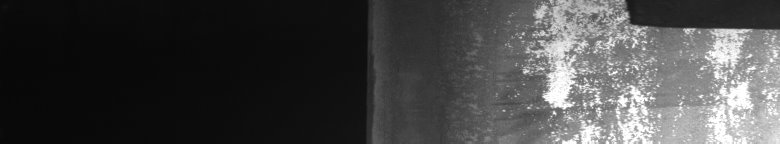kb: (502, 4, 776, 136)
